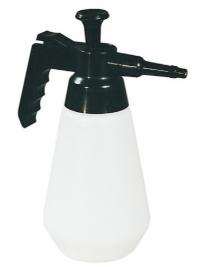PULVERISATEUR: (0, 0, 190, 267)
